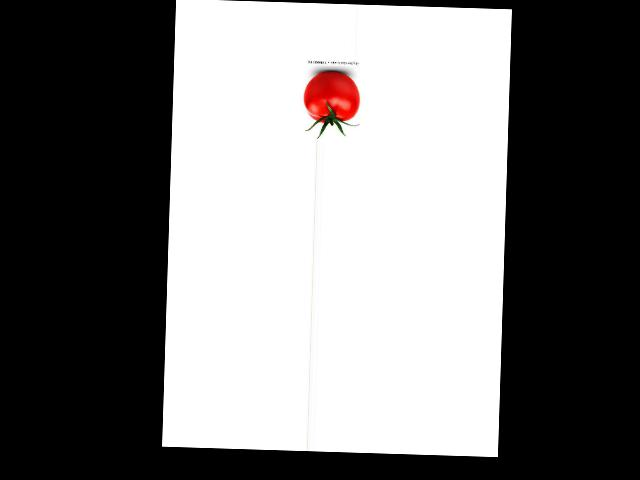tomato: (302, 71, 360, 123)
